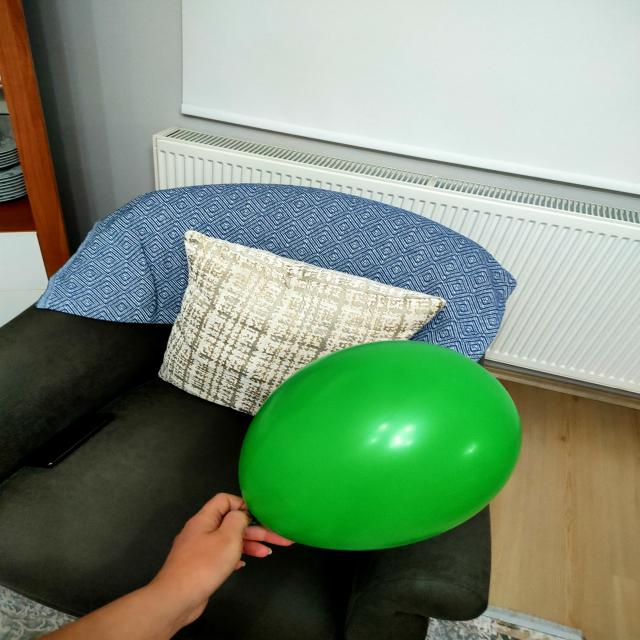green: (242, 341, 524, 551)
